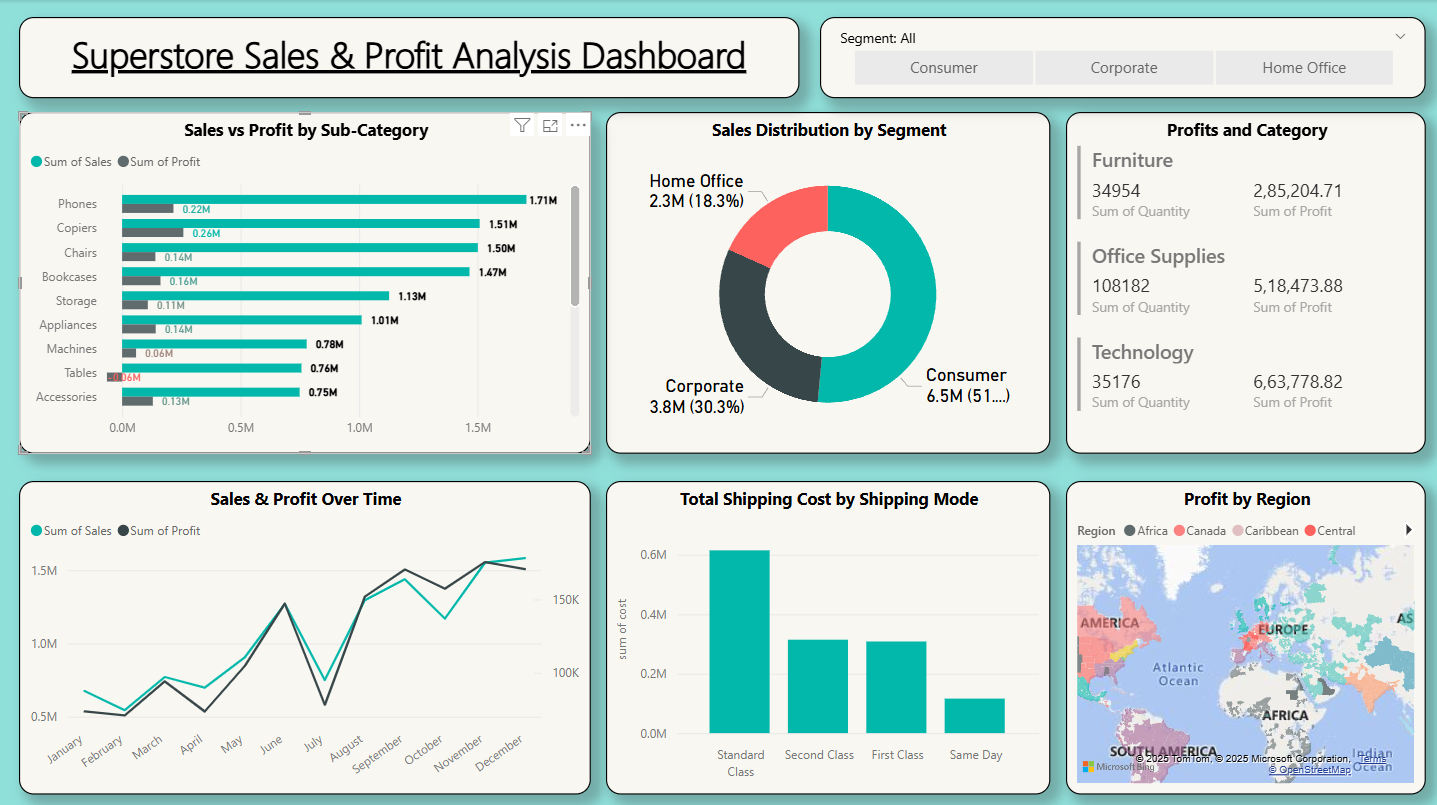

The page's visual inventory and layout, read from the dashboard file:
{"tool":"powerbi","page":{"name":"Page 1","canvas":[1280,720],"ordinal":0},"visuals":[{"type":"lineChart","title":"Sales & Profit Over Time","fields":{"Category":["cleaned_superstore.Order_Date.Variation.Date Hierarchy.Month","cleaned_superstore.Sub_Category"],"Y":["Sum(cleaned_superstore.Sales)"],"Y2":["Sum(cleaned_superstore.Profit)"]},"box":[17,426.3,506.9,277.6],"z":0},{"type":"columnChart","title":"Total Shipping Cost by Shipping Mode","fields":{"Category":["cleaned_superstore.Ship_Mode"],"Y":["Sum(cleaned_superstore.Shipping_Cost)"]},"box":[537.3,426.5,393.7,277.5],"z":1000},{"type":"donutChart","title":"Sales Distribution by Segment","fields":{"Category":["cleaned_superstore.Segment"],"Y":["Sum(cleaned_superstore.Sales)"]},"box":[537.3,99.3,393.7,303.3],"z":2000},{"type":"filledMap","title":"Profit by Region","fields":{"Category":["cleaned_superstore.State","cleaned_superstore.Region"]},"box":[945.2,426.5,319.2,277.5],"z":3000},{"type":"multiRowCard","title":"Profits and Category","fields":{"Values":["cleaned_superstore.Category","Sum(cleaned_superstore.Quantity)","Sum(cleaned_superstore.Profit)"]},"box":[945.2,99.3,319.2,303.3],"z":4000},{"type":"slicer","fields":{"Values":["cleaned_superstore.Segment"]},"box":[727.1,15.1,537.3,71.8],"z":5000},{"type":"textbox","box":[16.8,15.1,691.6,71.8],"z":6000},{"type":"clusteredBarChart","title":"Sales vs Profit by Sub-Category","fields":{"Category":["cleaned_superstore.Sub_Category"],"Y":["Sum(cleaned_superstore.Sales)","Sum(cleaned_superstore.Profit)"]},"box":[16.8,99.3,507.2,303.3],"z":7000}]}

Visuals, with their boxes in screenshot pixels (x1, y1, x2, y2), scaled from the page's 1280x720 canvas onto the 1437x805 screenshot:
"Sales & Profit Over Time" lineChart: 19:477:588:787
"Total Shipping Cost by Shipping Mode" columnChart: 603:477:1045:787
"Sales Distribution by Segment" donutChart: 603:111:1045:450
"Profit by Region" filledMap: 1061:477:1419:787
"Profits and Category" multiRowCard: 1061:111:1419:450
slicer - cleaned_superstore.Segment: 816:17:1419:97
textbox: 19:17:795:97
"Sales vs Profit by Sub-Category" clusteredBarChart: 19:111:588:450
